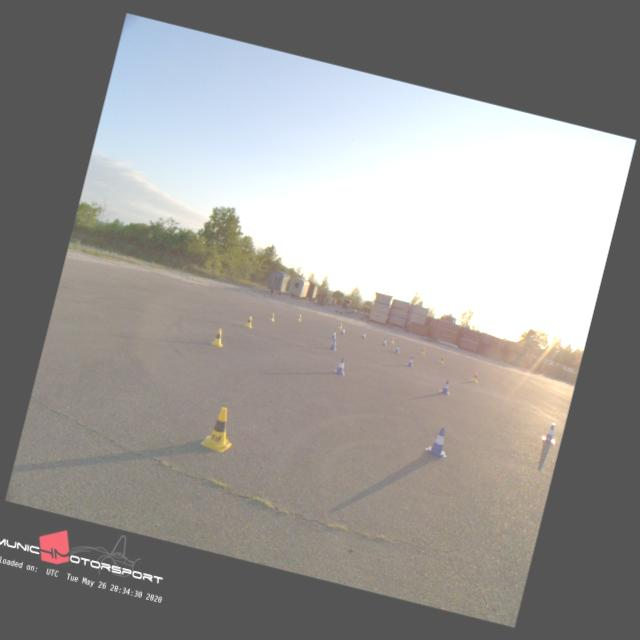blue_cone: (423, 424, 452, 458), (542, 421, 558, 443), (333, 356, 348, 376), (439, 378, 451, 394), (328, 336, 338, 349), (405, 354, 415, 366), (329, 328, 338, 340), (393, 344, 400, 352), (340, 327, 346, 335), (360, 331, 366, 339), (382, 338, 386, 346)
yellow_cone: (200, 402, 238, 452), (210, 326, 226, 346), (470, 370, 480, 382), (244, 314, 252, 327), (268, 312, 276, 322), (438, 355, 445, 364), (296, 314, 302, 322), (420, 347, 426, 354), (338, 322, 342, 329), (390, 336, 394, 343)
